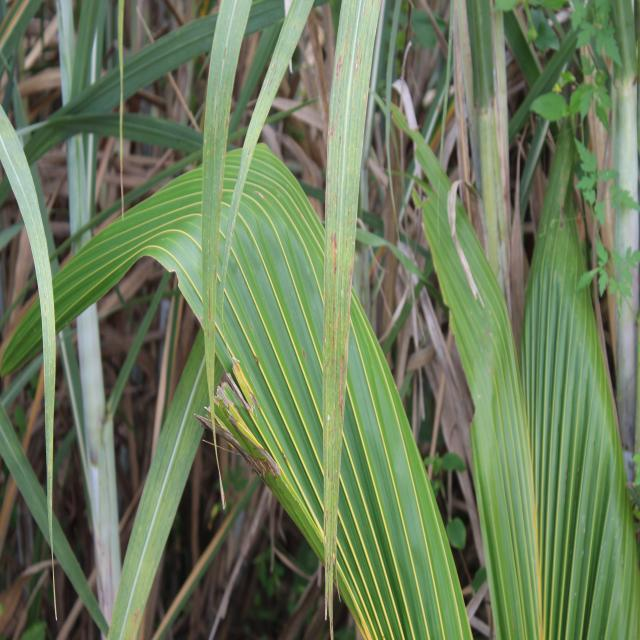Sugarcane: (317, 0, 382, 635), (0, 93, 60, 630), (197, 0, 252, 513)
